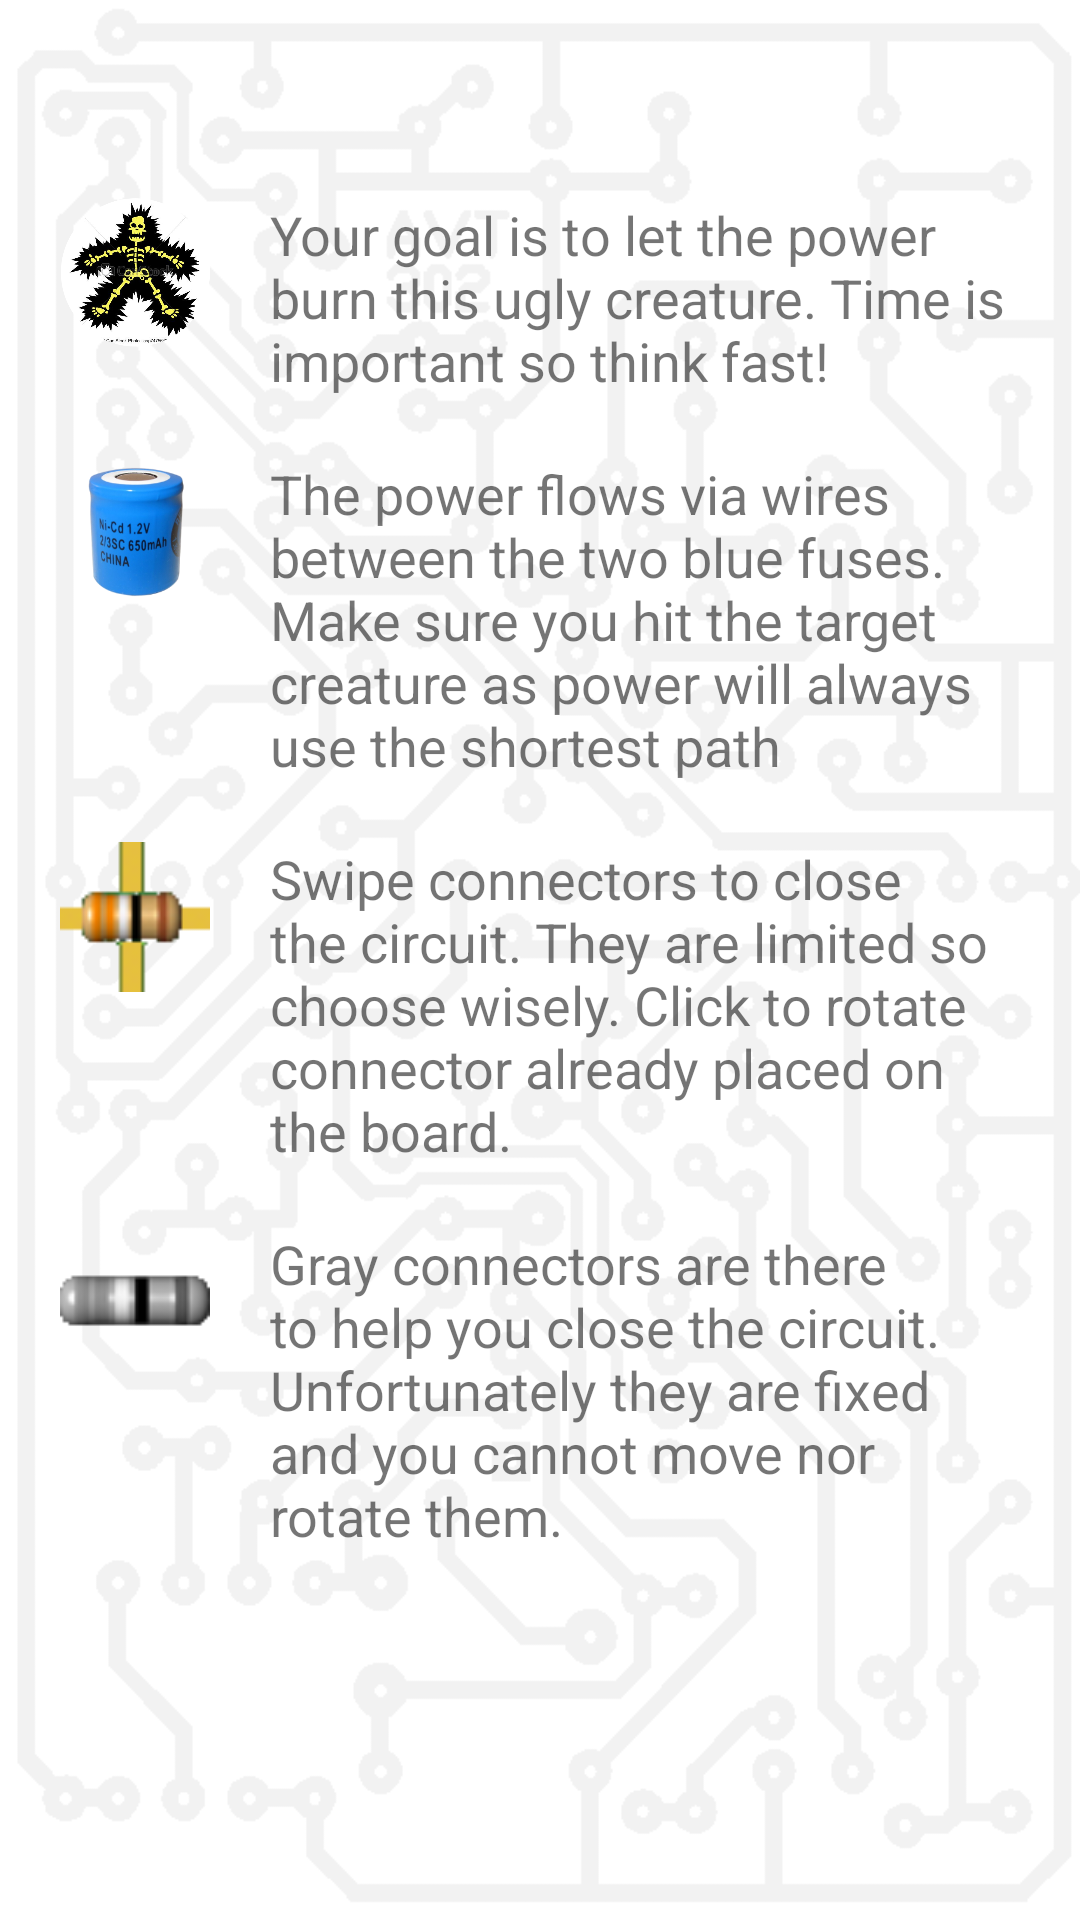

Screen size 1080×1920. Icon name, then its box in pixels as (x1, y1, x2, y2):
battery: (89, 468, 184, 596)
shockcircle: (70, 203, 200, 343)
